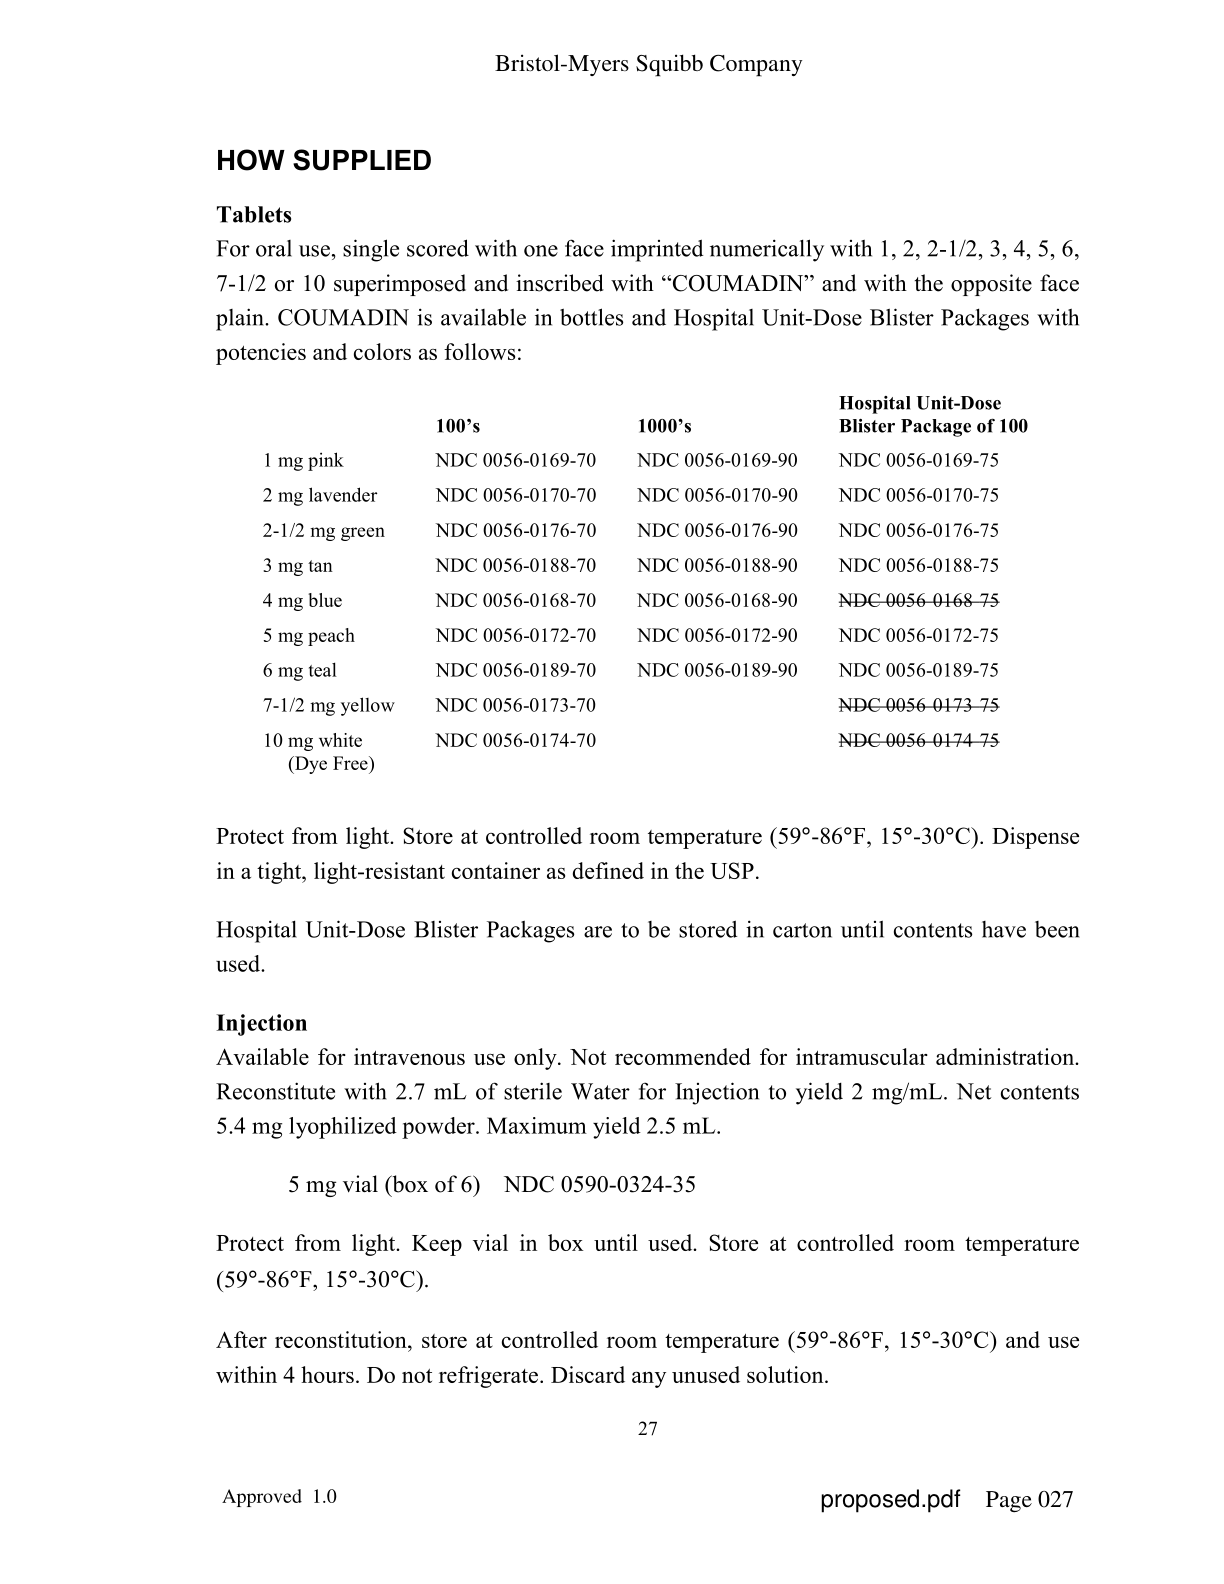nolines: (262, 393, 1029, 780)
